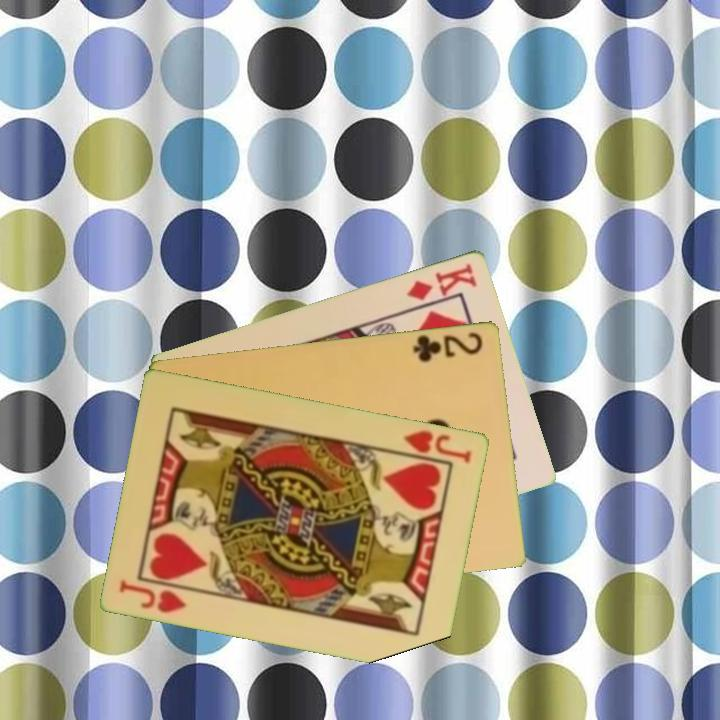2c: (409, 328, 486, 365)
Jh: (392, 426, 475, 466), (116, 575, 190, 615)
Kd: (403, 259, 480, 303)
